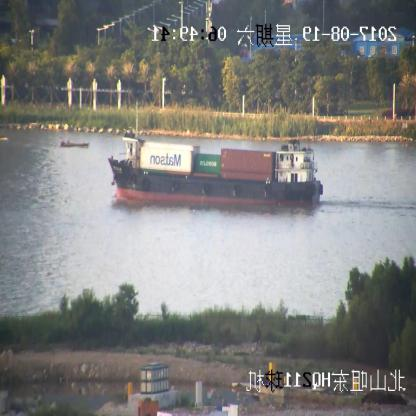Container Ship: (106, 107, 323, 209)
